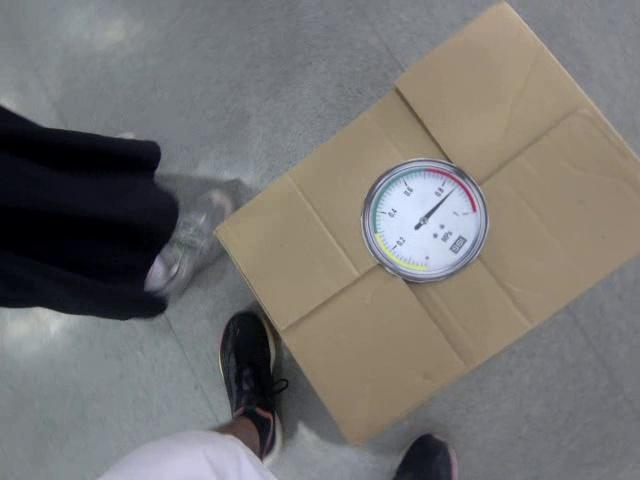Dashboard: (361, 158, 488, 285)
ssi: (448, 233, 467, 254)
